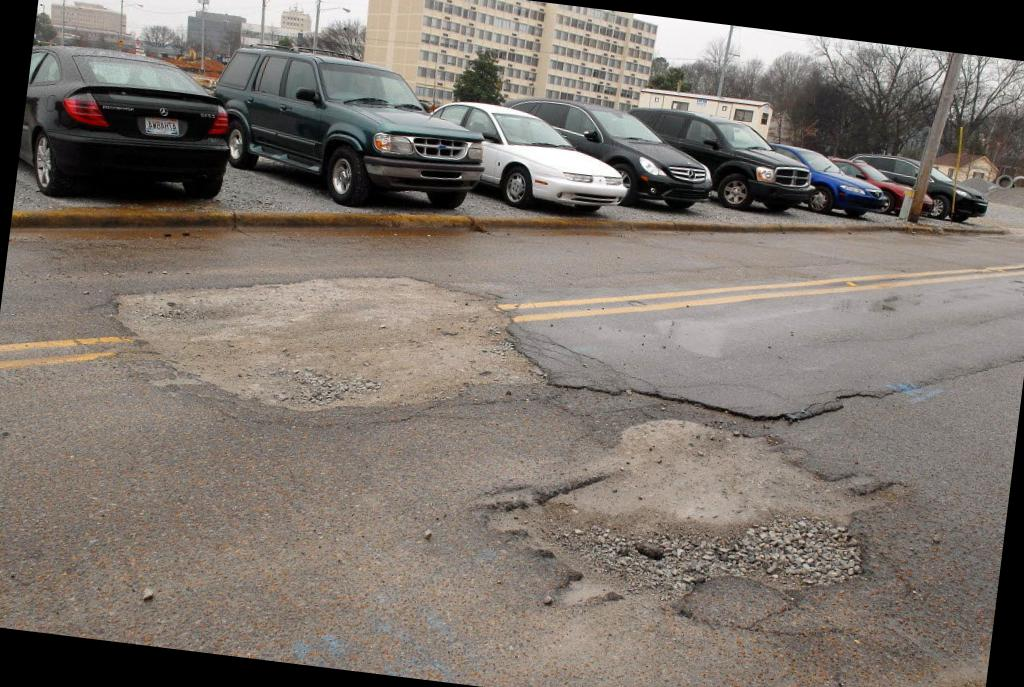pothole: (457, 389, 917, 663), (86, 228, 594, 450)
